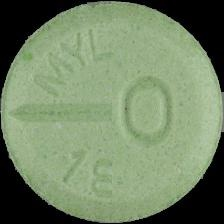55154-5682: (0, 0, 224, 224)
